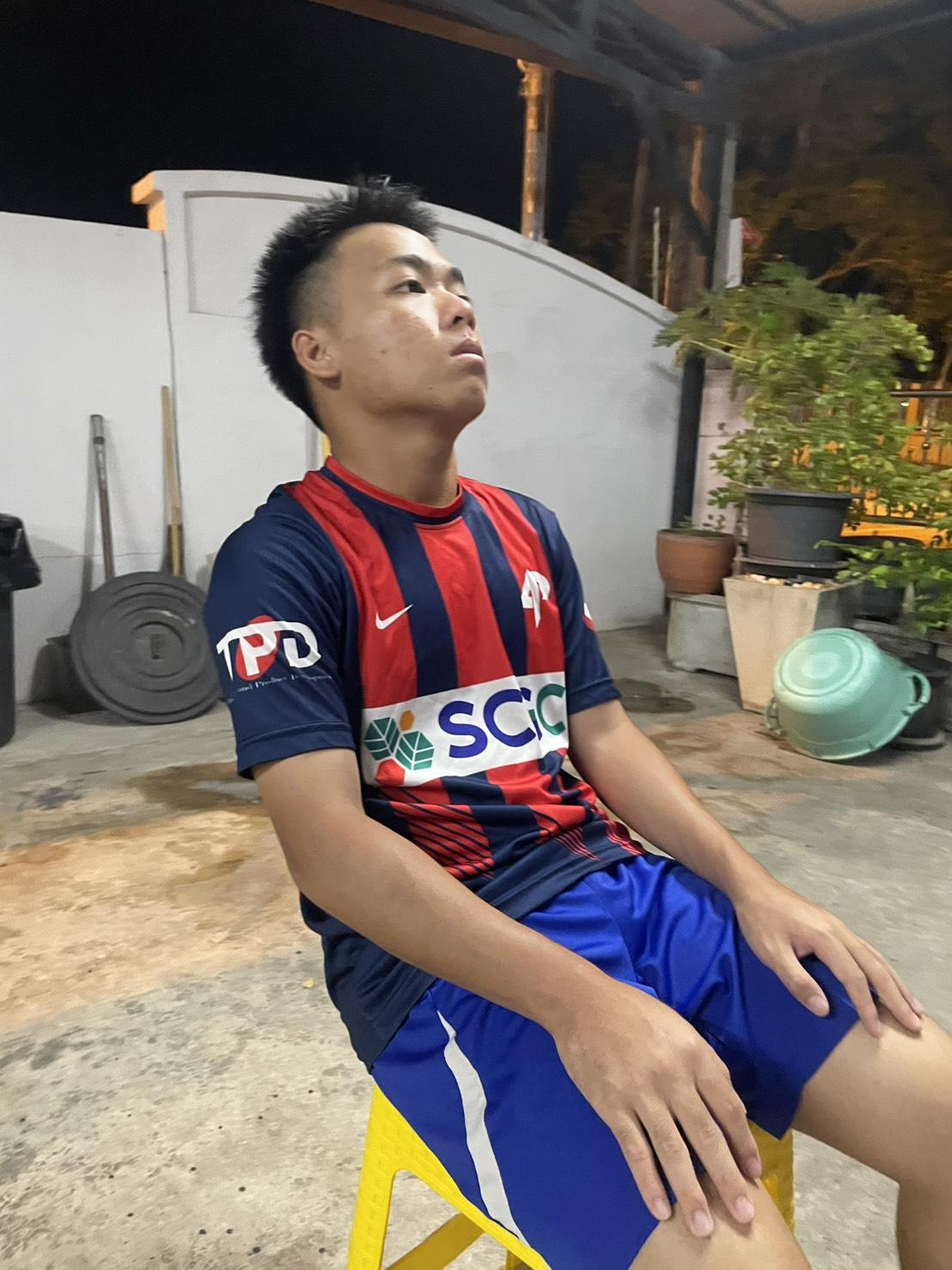BadPosture: (206, 179, 938, 1269)
